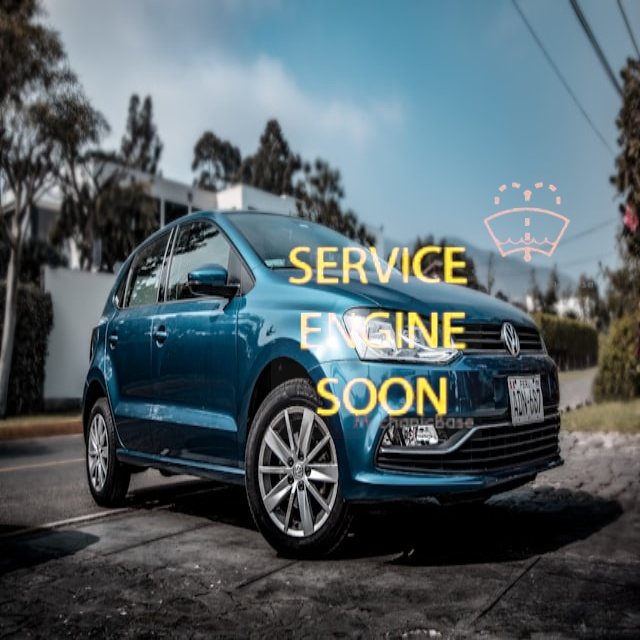symbol: (271, 228, 482, 439), (456, 152, 599, 295)
